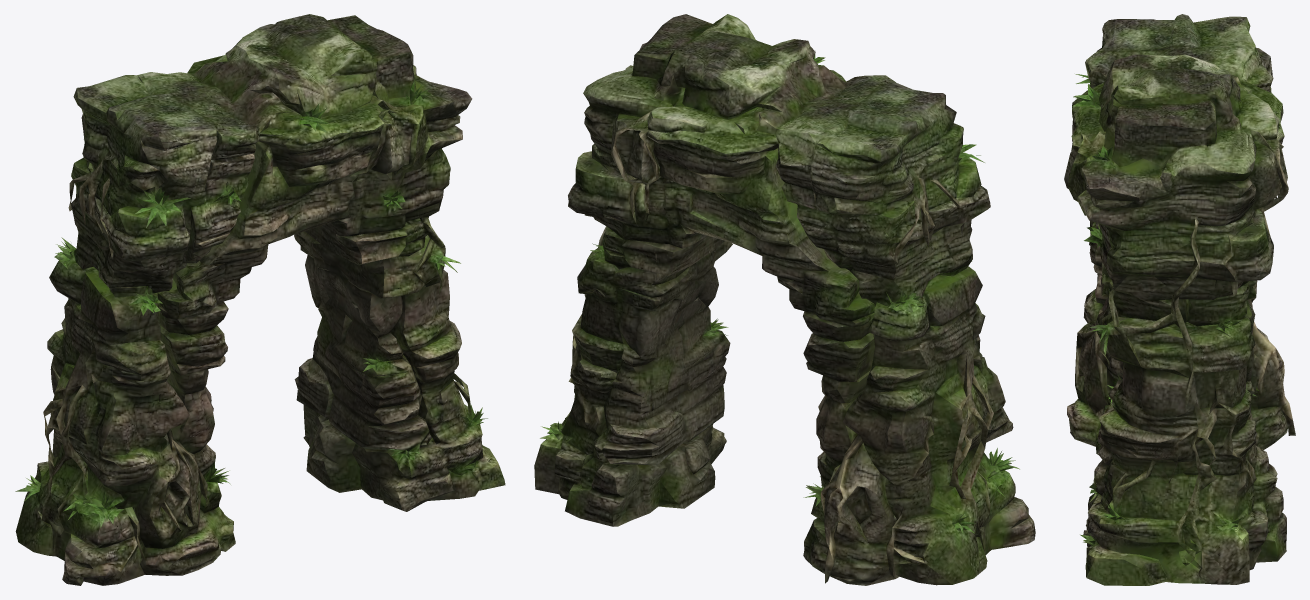
File: moss_archway.glb
The picture shows the model from 3 angles, left to right: view 1: azimuth 30°, elevation 25°; view 2: azimuth 150°, elevation 25°; view 3: azimuth 270°, elevation 25°; orthographic projection. The views are drawn at different scales.
Parts seen in each view (by area): view 1: moss_archway; view 2: moss_archway; view 3: moss_archway.
Part boxes in pixels (x1,y1,x2,y2): moss_archway: (15,14,505,585); moss_archway: (534,14,1035,585); moss_archway: (1064,14,1295,585).
Bounding box in the file's own units: 1.89 × 1.9 × 0.9126.
Materials: 1 (1 with a texture image).
